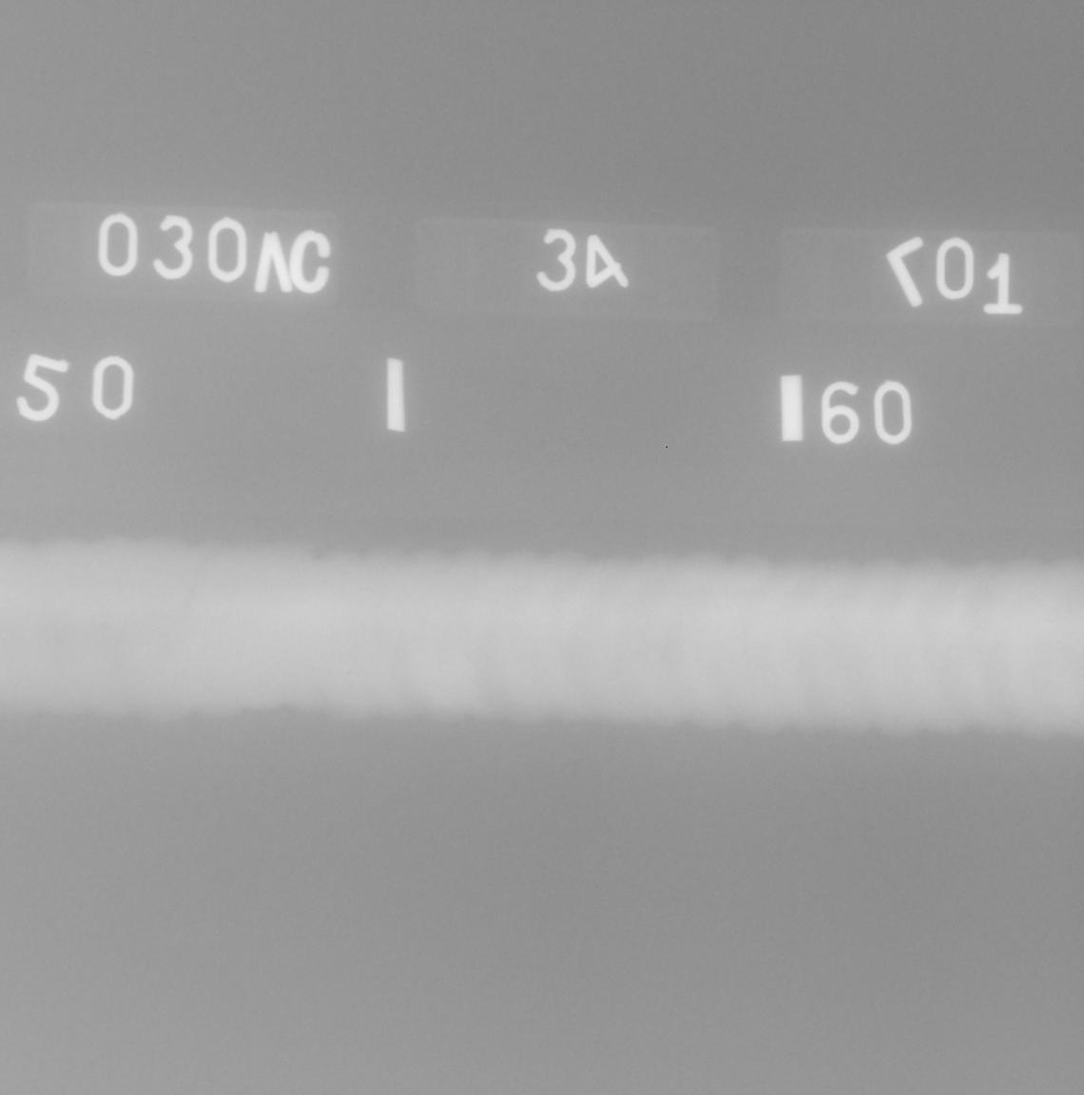Pore/Porosity: (1046, 617, 1053, 622)
